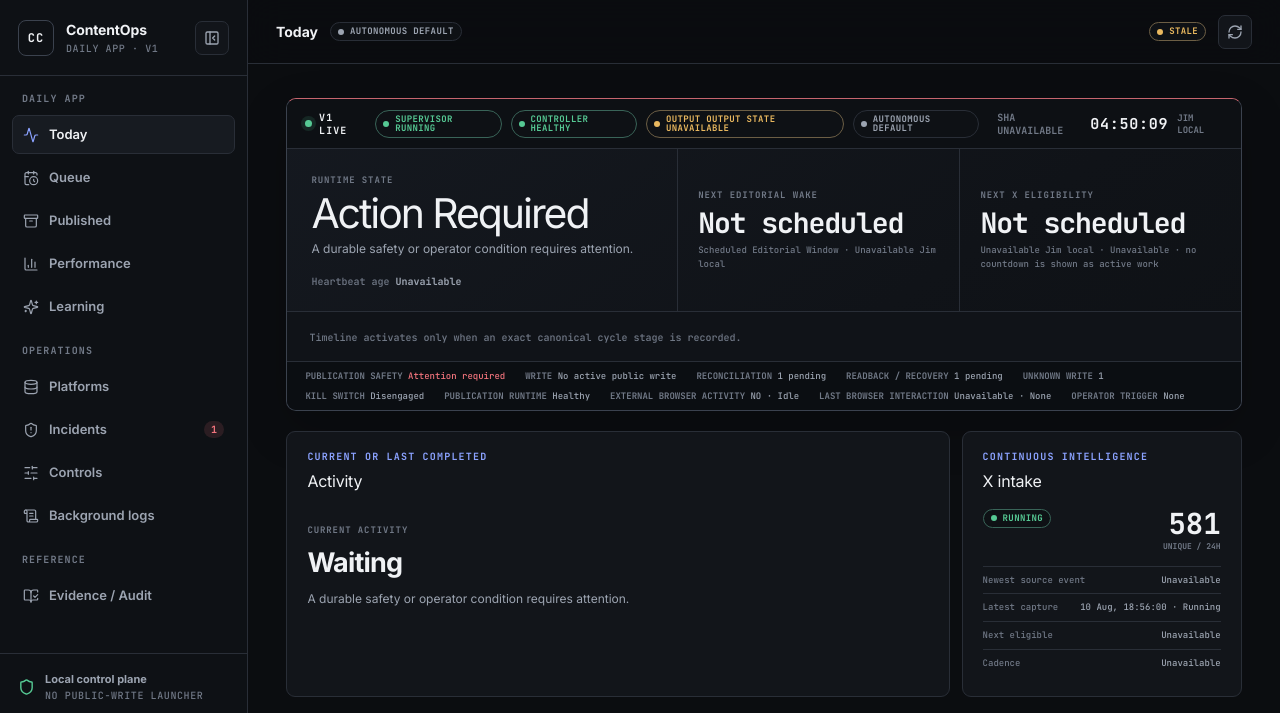
Scenario: Final Daily App production console › shows native conversation guidance and channel setup without a run-now bridge
Click the button "Platforms": (124, 386) [12,367,235,406]
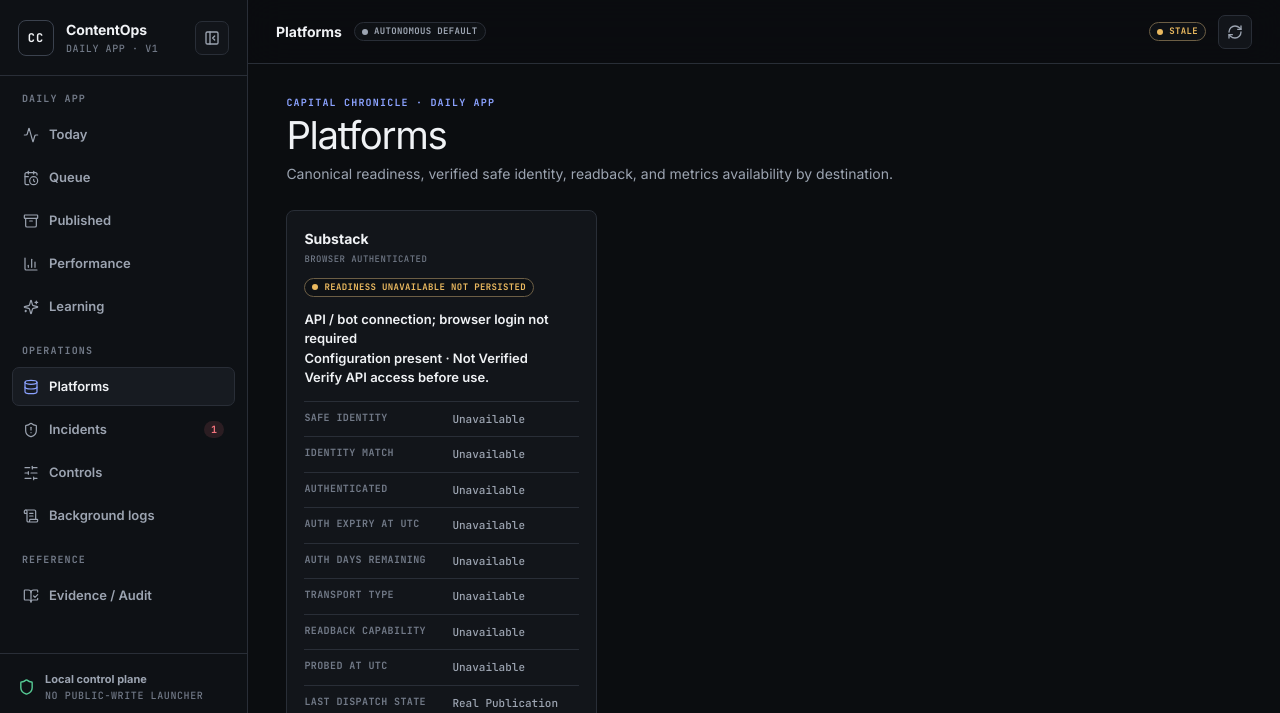
Result: the text "API / bot connection; browser login not required" is shown at [304,310,579,349]
Result: the text "Verify API access before use." is shown at [304,369,489,385]
